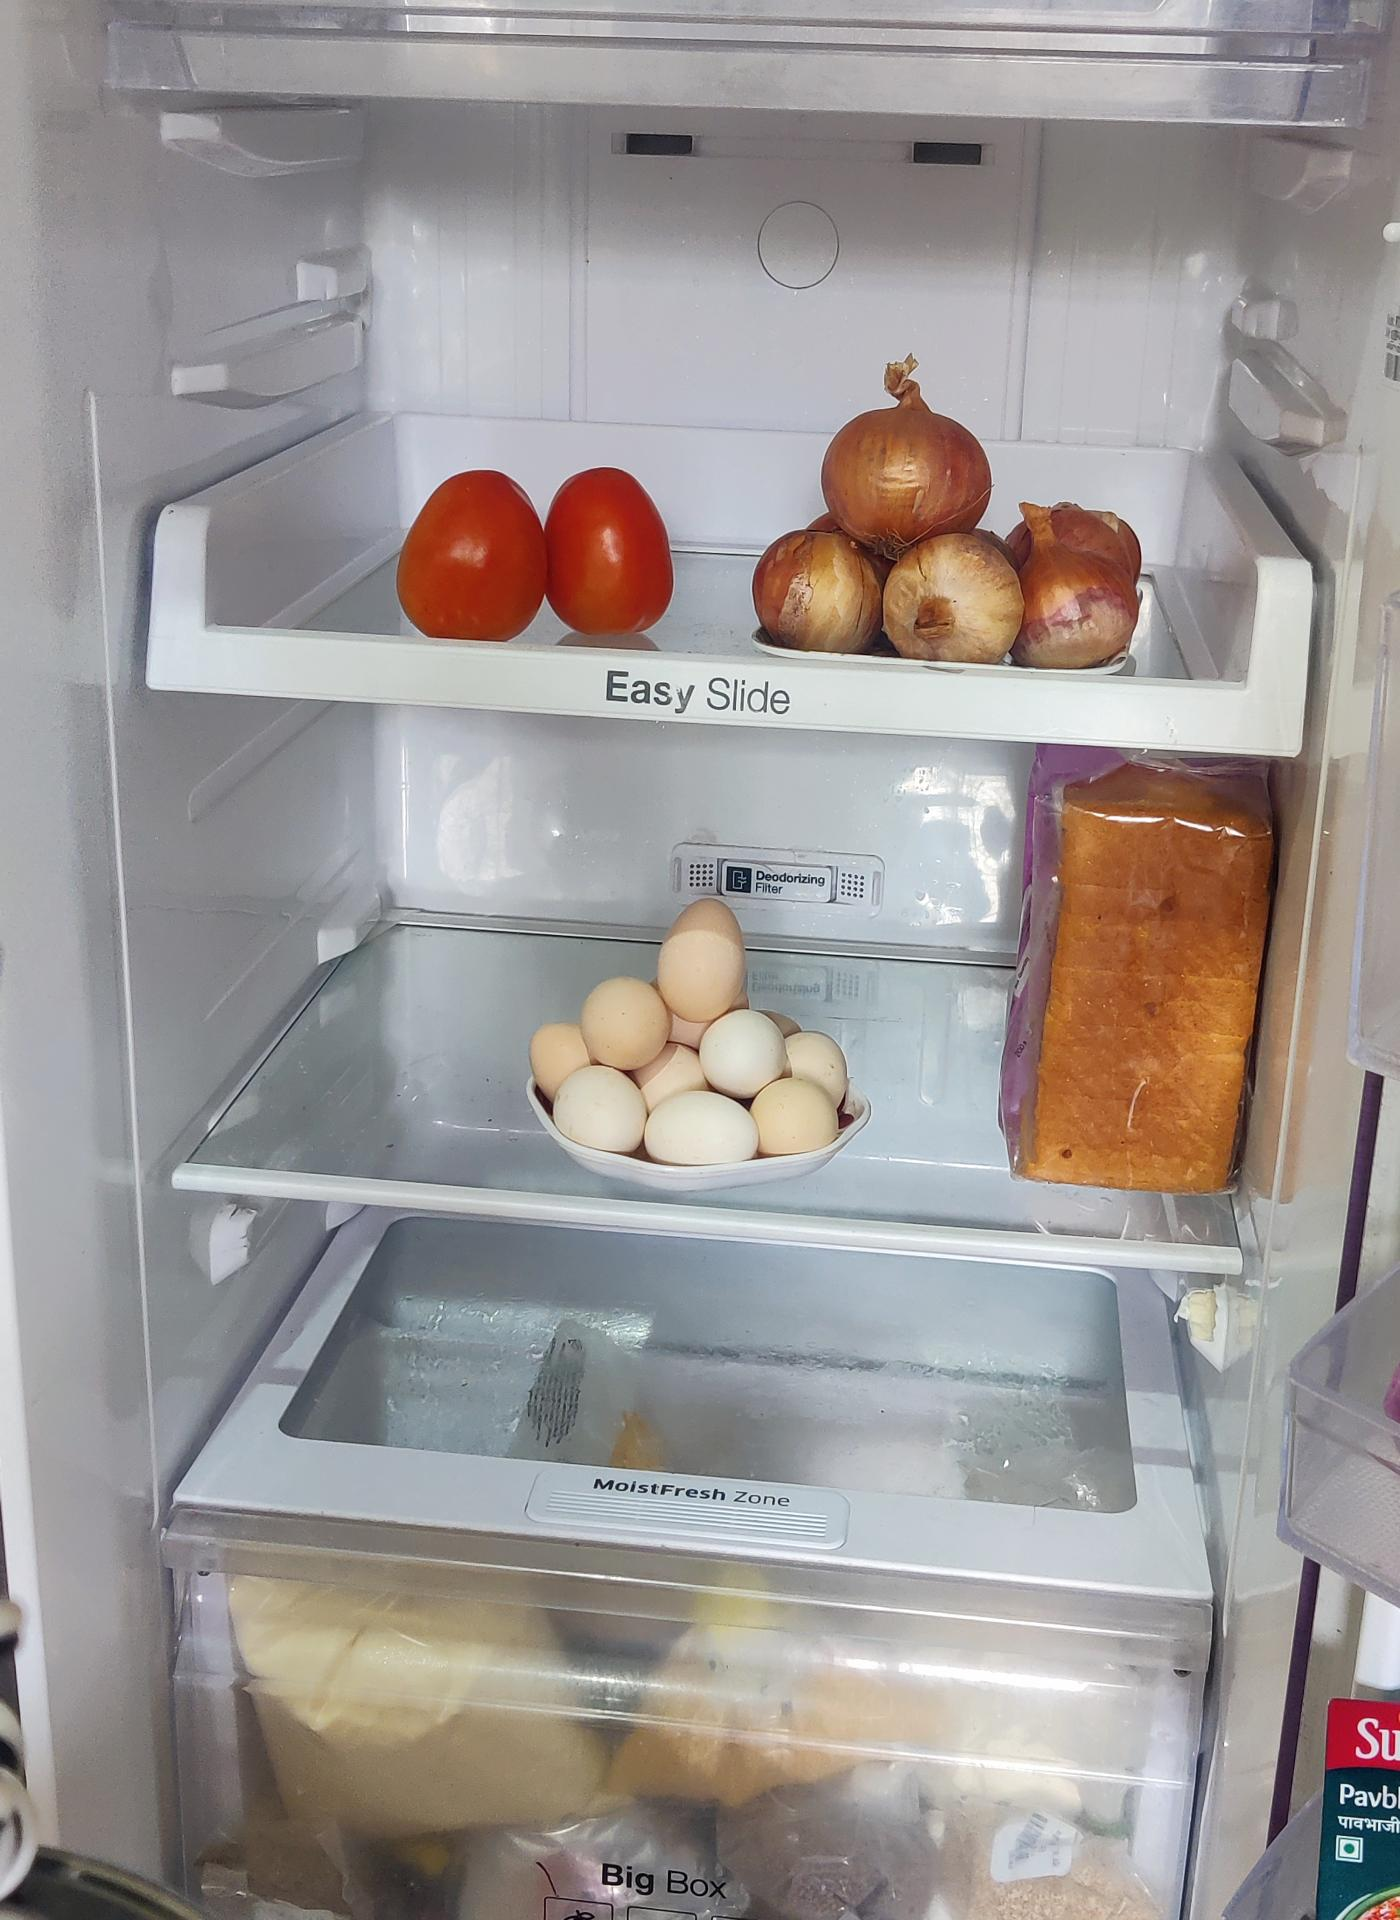bread: (991, 756, 1276, 1203)
egg: (531, 891, 862, 1161)
onion: (744, 405, 1145, 677)
tomato: (392, 468, 674, 647)
